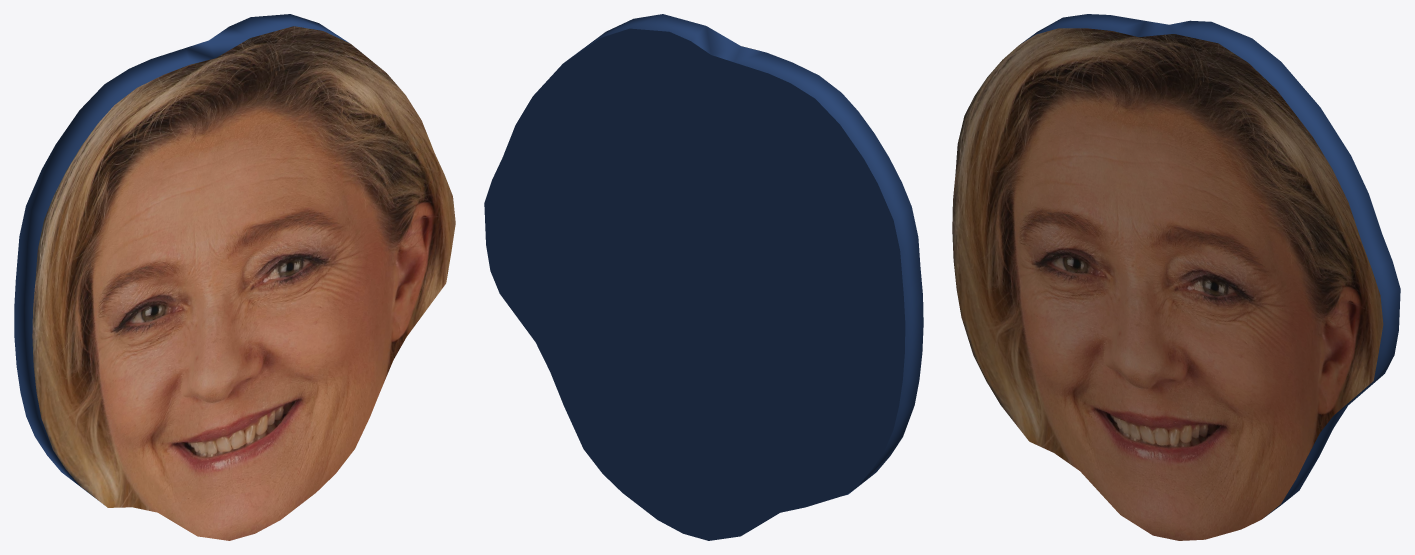
The model's file is Marine_Le_Pen.glb.
The picture shows the model from 3 angles, left to right: view 1: azimuth 30°, elevation 25°; view 2: azimuth 150°, elevation 25°; view 3: azimuth 330°, elevation 25°; orthographic projection. The views are drawn at different scales.
Parts seen in each view (by area): view 1: Curve; view 2: Curve; view 3: Curve.
Part boxes in pixels (bbox=[...]): Curve: bbox=[14, 14, 455, 540]; Curve: bbox=[484, 14, 923, 540]; Curve: bbox=[952, 14, 1400, 540].
Size of the model in its own units: 2.01 by 2.27 by 0.1502.
Materials: 2 (1 with a texture image).
